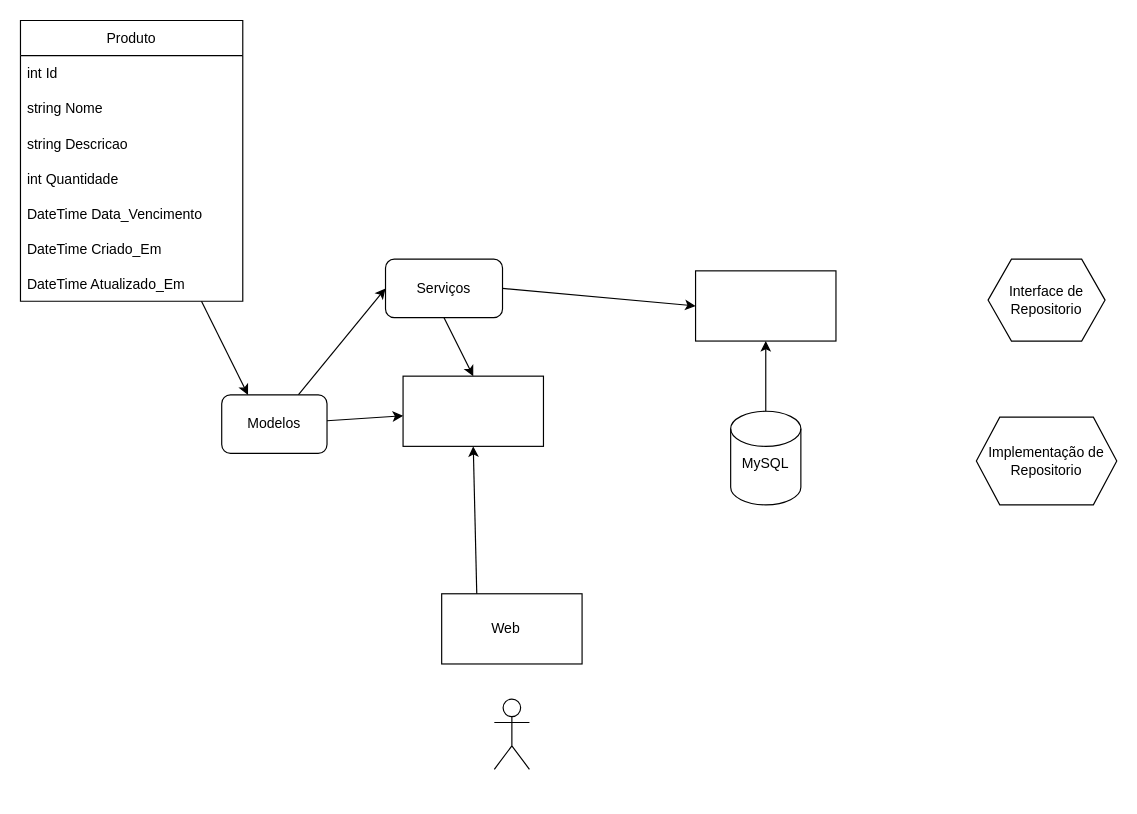
Image size: 1137x814. Some labels were removed from this diagram. The centre of each missing label's shape, as x and y in pixels:
"Database" belongs at [765,305].
"Negocio" belongs at [472,410].
"Usuário" belongs at [511,733].
